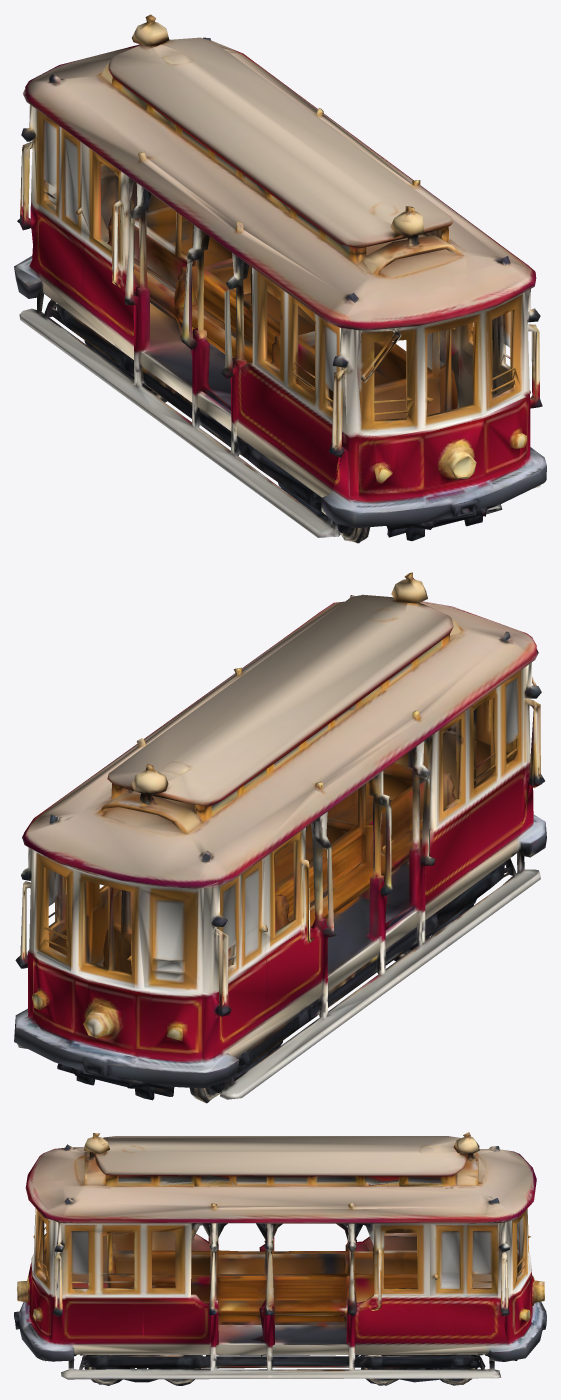
Rendered from teleopCablecar.6412a9ca.glb.
3 renders of one model, top to bottom at view 1: azimuth 30°, elevation 25°; view 2: azimuth 150°, elevation 25°; view 3: azimuth 270°, elevation 25°, orthographic. The views are drawn at different scales.
Parts seen in each view (by area): view 1: cablecar; view 2: cablecar; view 3: cablecar.
Part boxes in pixels (x1,y1,x2,y2): cablecar: (14,14,546,543); cablecar: (14,572,546,1103); cablecar: (14,1132,546,1385).
Size of the model in its own units: 2.89 by 4.09 by 8.4.
Materials: 1 (1 with a texture image).
